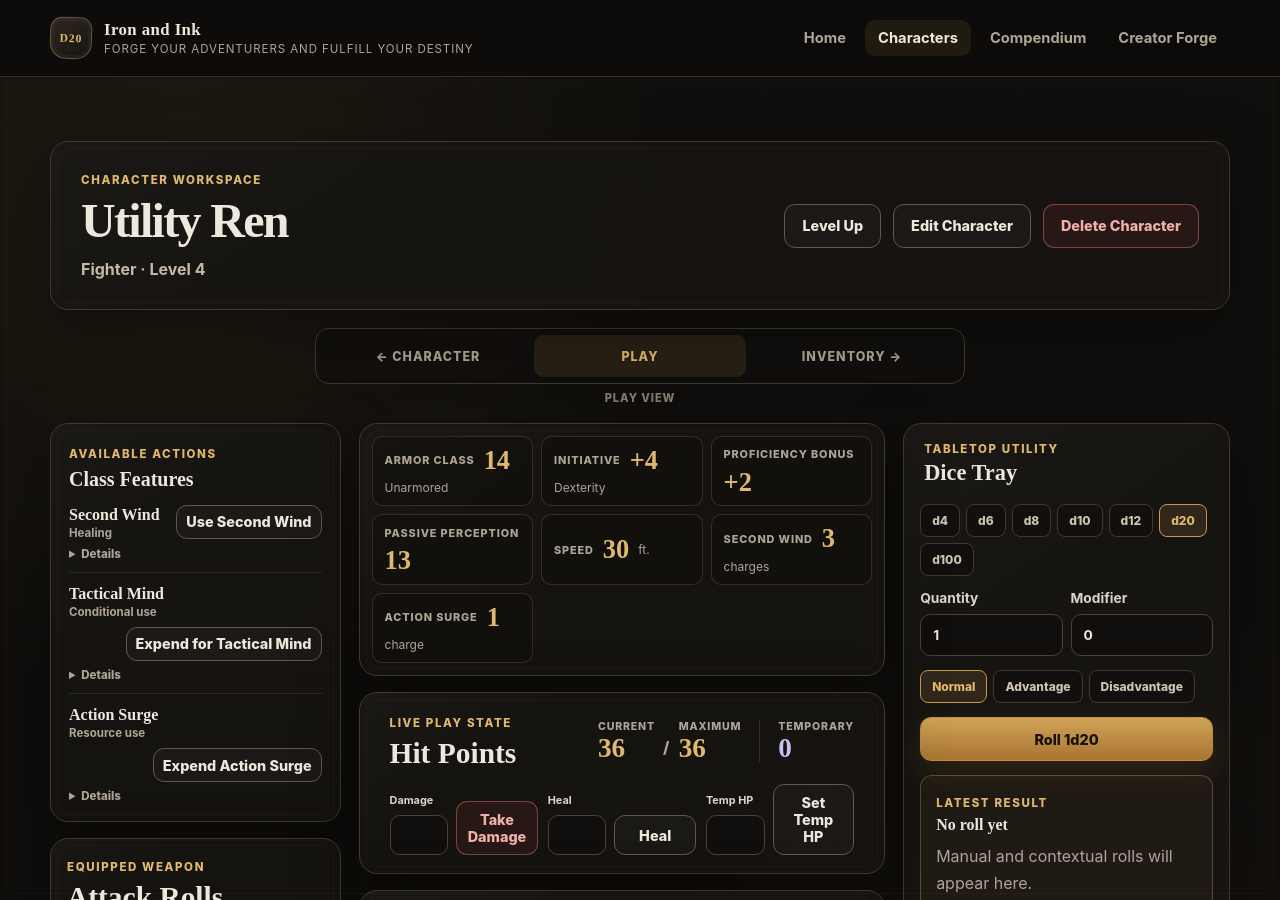
Test: PLAY UI stabilization checkpoint › N/O/P/Q keeps generic Dice Tray, Initiative, quick resource status, and M15-B Level Up entry functional
This screenshot has width=1280, height=900.
Expected: the 1st element with class "class-feature-row" is shown, [69,505,322,572]
Expected: the 3rd element with class "class-feature-row" is shown, [69,693,322,803]
Click the button "Expend Action Surge" at (237, 765), box [153,748,322,782]
(page scrolled)
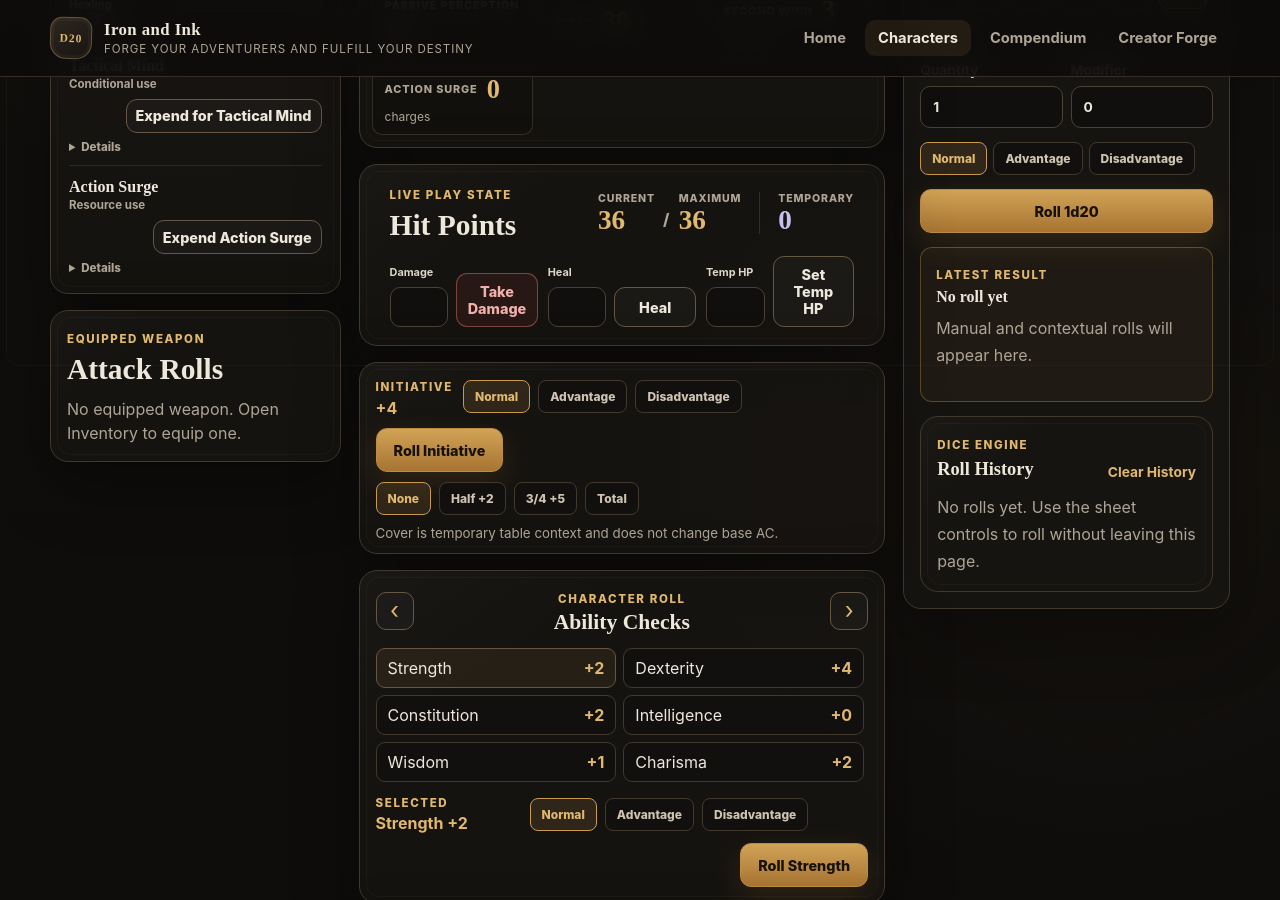
Now the text "0" below "13" is shown, box [487,74,500,104]
Click the button "Roll Initiative" at (439, 450), box [376,428,503,472]
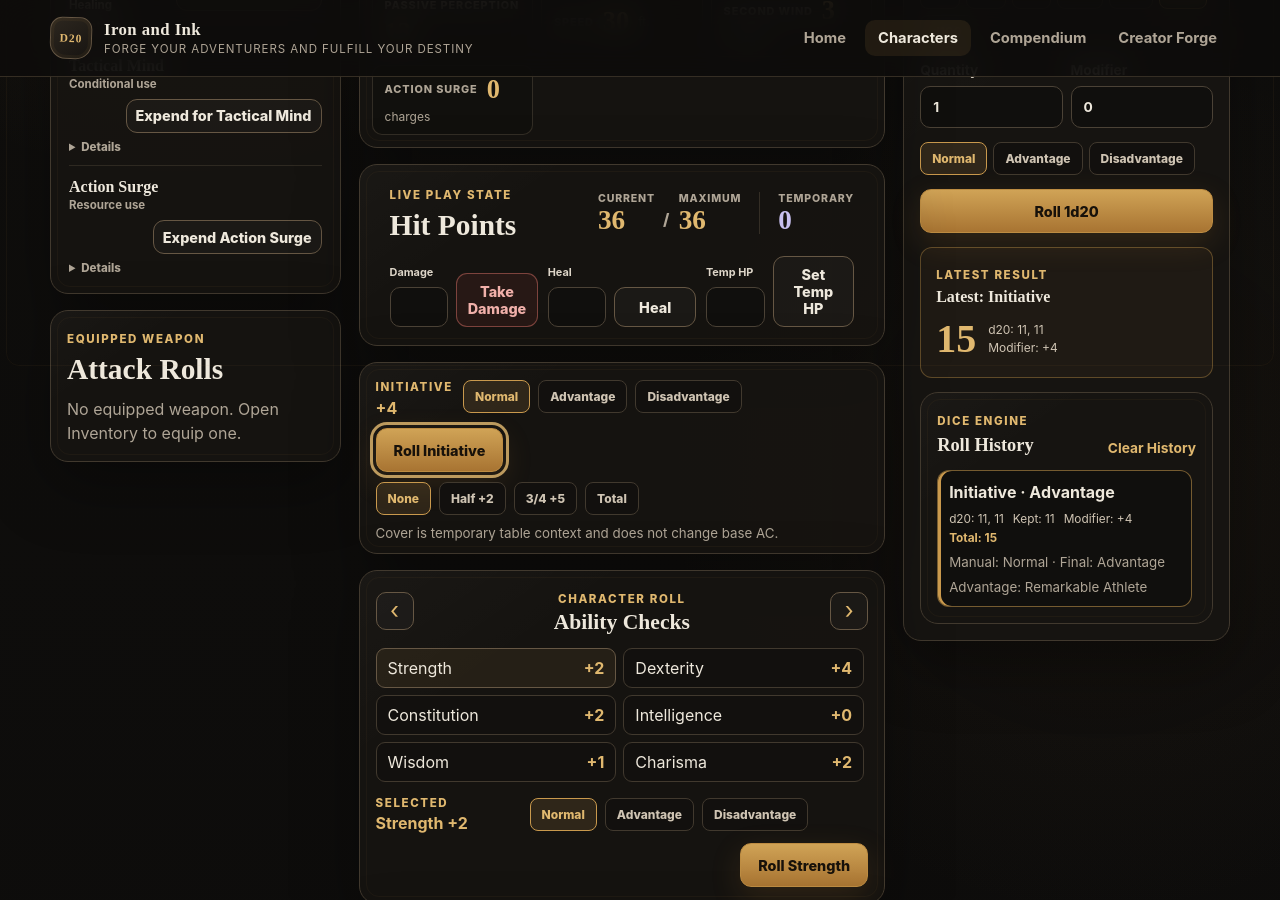
Expected: the element "Roll History" is shown, [920,392,1213,624]
Now the text "Initiative · Advantage" is shown, box [949,482,1115,502]
Replace the text in the number field labelled "Modifier" with "3" at (1142, 107), box [1070,86,1213,128]
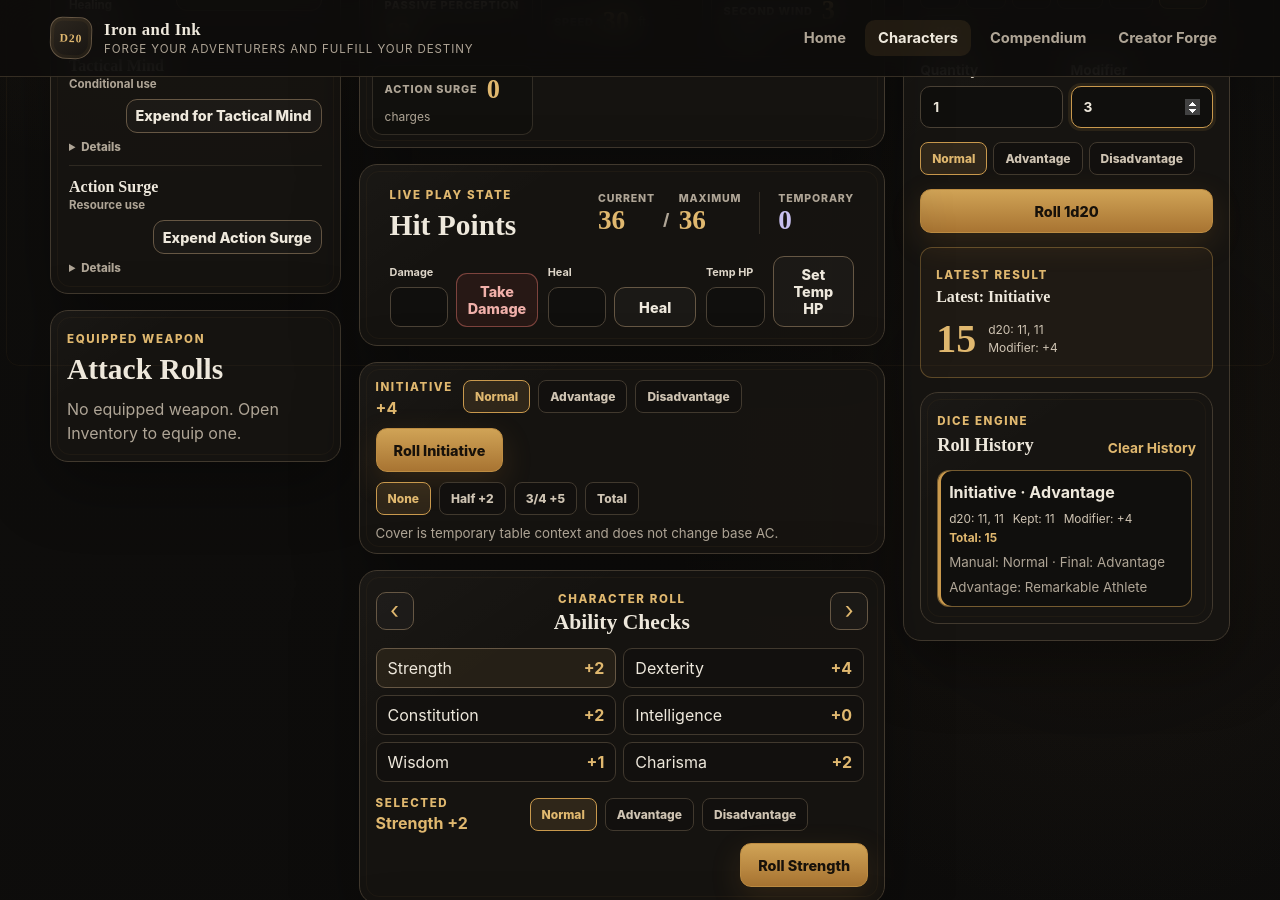
Click the button "Roll 1d20" at (1066, 211), box [920,189,1213,233]
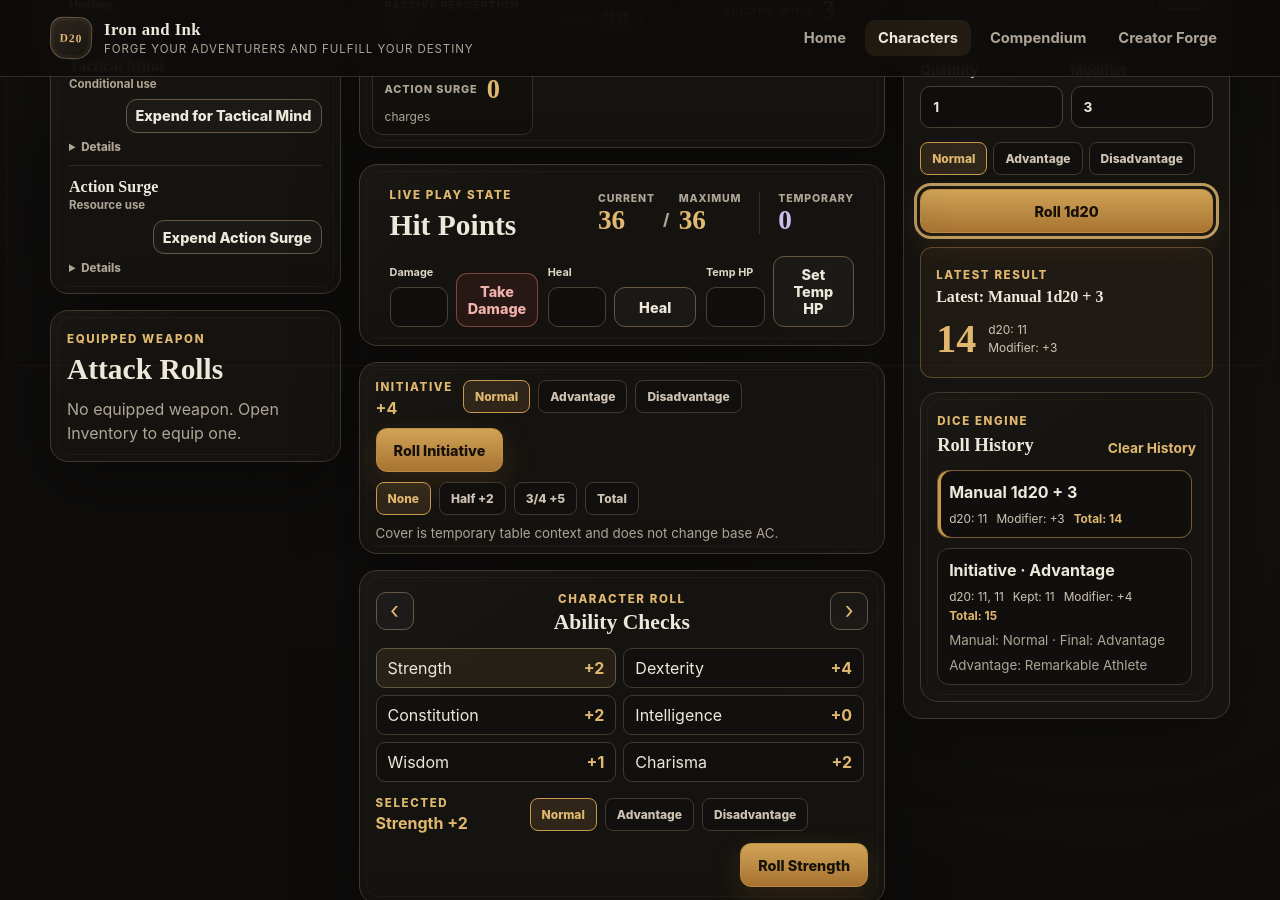
Now the heading "Latest: Manual 1d20 + 3" is shown, box [936,288,1103,305]
